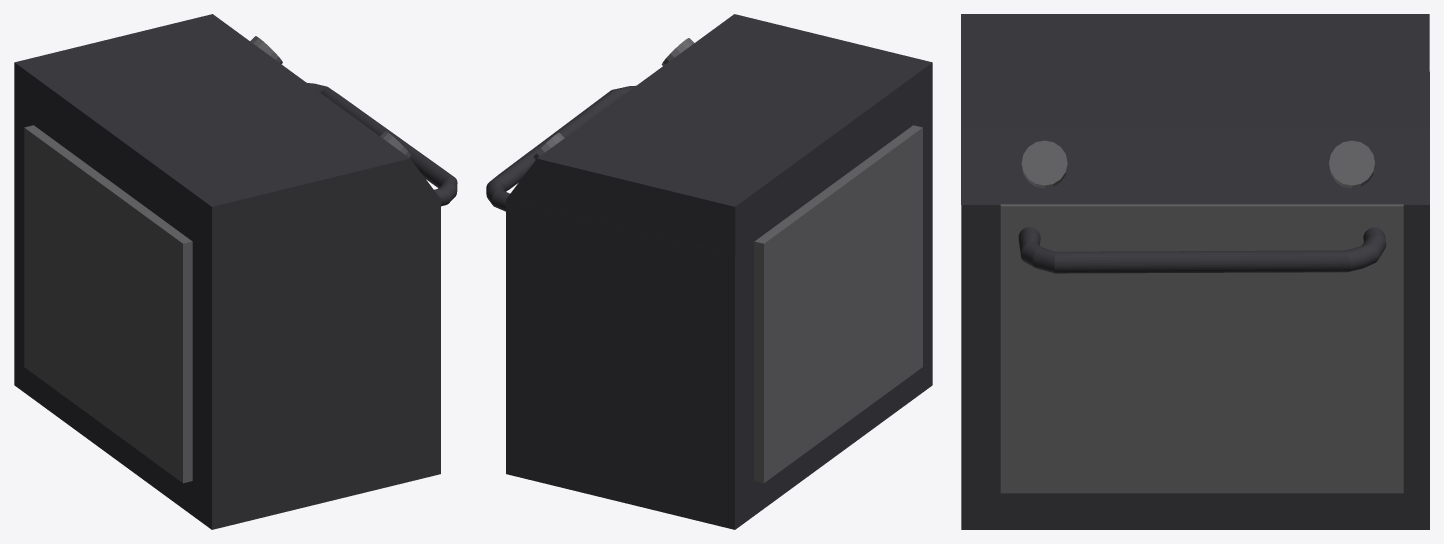
File: oven textured.fbx
3 renders of one model, left to right at view 1: azimuth 30°, elevation 25°; view 2: azimuth 150°, elevation 25°; view 3: azimuth 270°, elevation 25°, orthographic. The views are drawn at different scales.
Visible parts, largest first — view 1: Top, oven left, oven back, oven bottom, Holder; view 2: Top, oven right, oven back, oven bottom, Holder; view 3: Open thingy, Top, oven bottom, oven left, Holder, oven right, Button 1, Button 2.
Boxes of the visible parts, box(x1,y1,x2,y2) form: Top: box(14, 14, 441, 255); oven left: box(212, 200, 440, 494); oven back: box(14, 111, 211, 494); oven bottom: box(14, 350, 440, 529); Holder: box(307, 83, 457, 206); Top: box(506, 14, 932, 255); oven right: box(506, 199, 734, 494); oven back: box(735, 111, 932, 494); oven bottom: box(506, 351, 932, 529); Holder: box(486, 85, 635, 211); Open thingy: box(1000, 204, 1403, 493); Top: box(961, 14, 1429, 204); oven bottom: box(961, 488, 1429, 529); oven left: box(961, 205, 1000, 488); Holder: box(1018, 227, 1386, 273); oven right: box(1403, 72, 1429, 488); Button 1: box(1021, 140, 1067, 188); Button 2: box(1329, 140, 1374, 188).
Size of the model in its own units: 1170 by 1226 by 1359.
